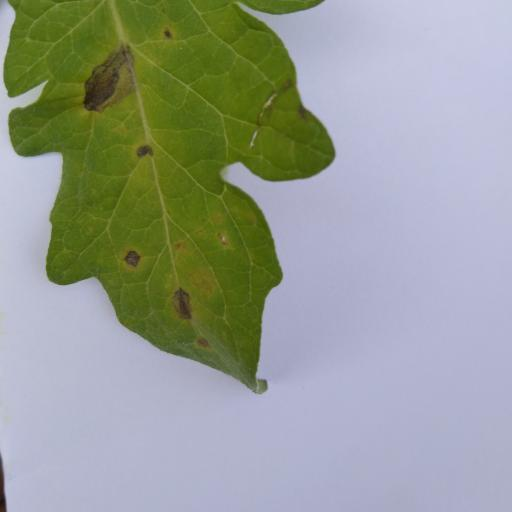disease_tomato: (2, 0, 336, 394)
